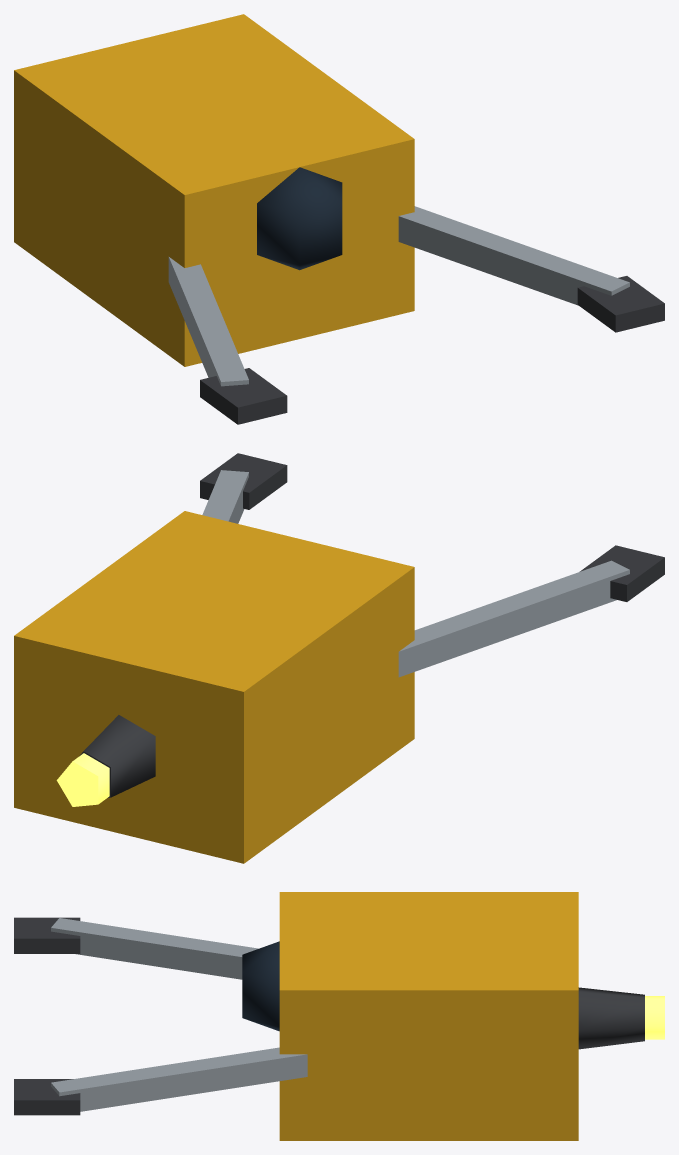
Rendered from space_ship_builder_drone_mk1_lod1.glb.
3 views of the same model, one above another, from view 1: azimuth 30°, elevation 25°; view 2: azimuth 150°, elevation 25°; view 3: azimuth 270°, elevation 25° (orthographic). The views are drawn at different scales.
Visible parts, largest first — view 1: body, arm_1, arm_0; view 2: body, arm_0, engine_0, arm_1; view 3: body, arm_1, arm_0, engine_0.
Boxes of the visible parts, x1,y1,x2,y2 form: body: (14, 14, 414, 366); arm_1: (398, 206, 664, 332); arm_0: (168, 257, 287, 424); body: (14, 511, 414, 863); arm_0: (398, 545, 664, 677); engine_0: (56, 715, 155, 806); arm_1: (200, 453, 287, 523); body: (242, 892, 578, 1140); arm_1: (14, 1047, 307, 1115); arm_0: (14, 917, 258, 979); engine_0: (578, 987, 664, 1049).
Bounding box in the file's own units: 2.6 × 1 × 3.92.
